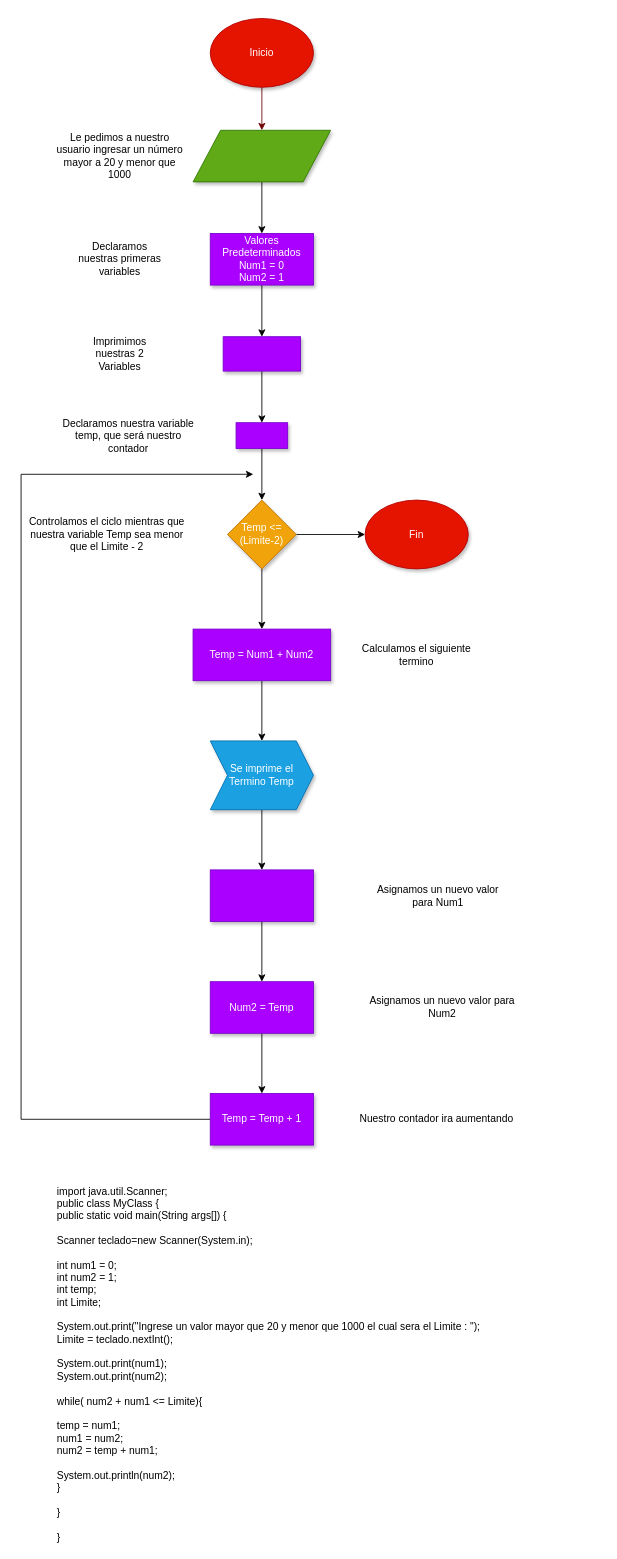
The diagram is 617 pixels wide and 1559 high, and some of its shapes have lost their labels. The centre of each missing label's shape, as x and y in pixels:
"Ingresa el valor del Limite" goes at point 262,157.
"Num1 = Num2" goes at point 262,897.
"Num1, Num2" goes at point 262,354.
"Temp" goes at point 262,436.
